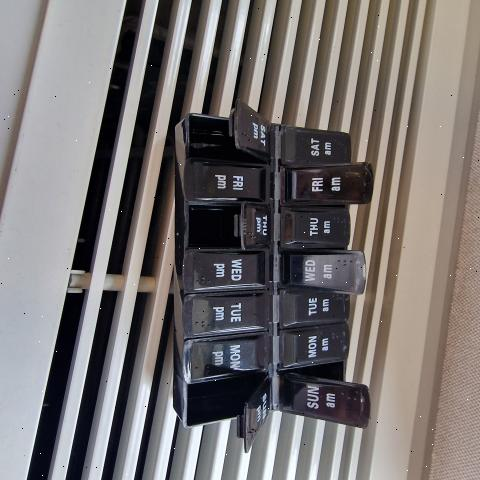Open: (190, 102, 271, 169), (187, 375, 266, 426), (180, 203, 240, 249), (285, 359, 344, 381)
